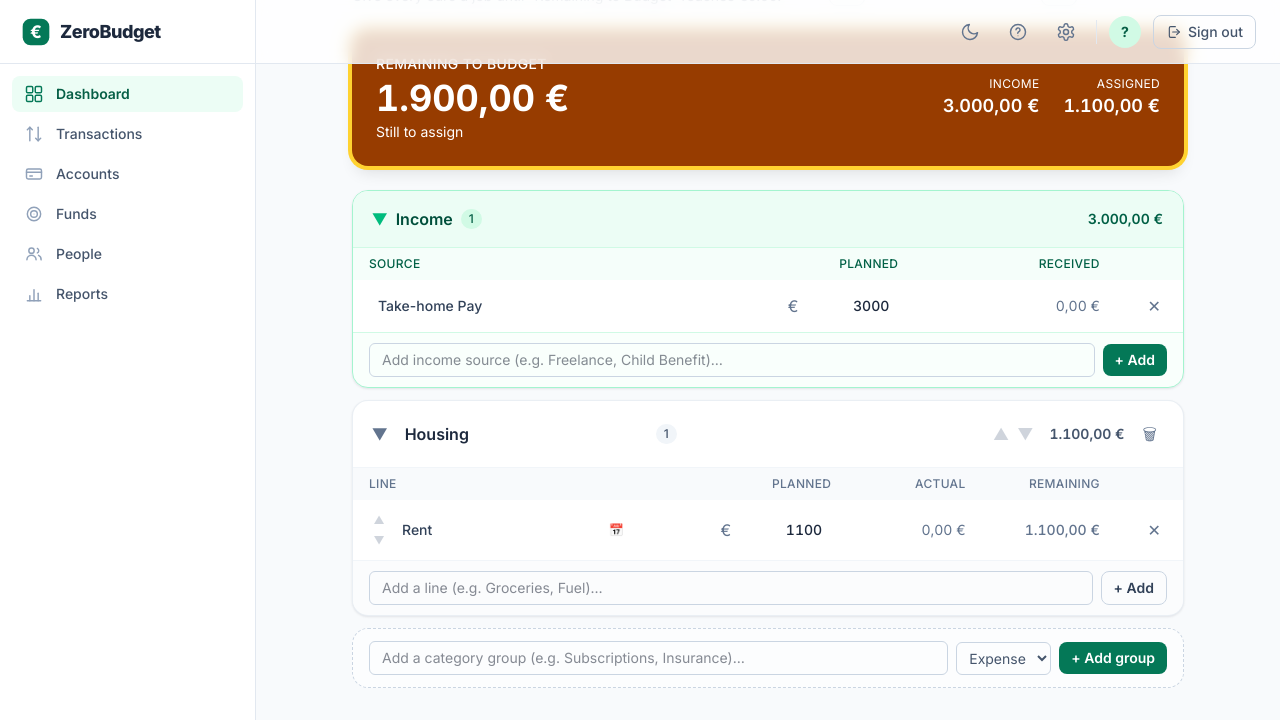
it: DashboardPage optimistic editing › adds a category group and reconciles from the server response
This screenshot has width=1280, height=720.
(page scrolled)
Type "Subscriptions" into the field named "New category group name" at (659, 658), box 369,641 -> 948,675
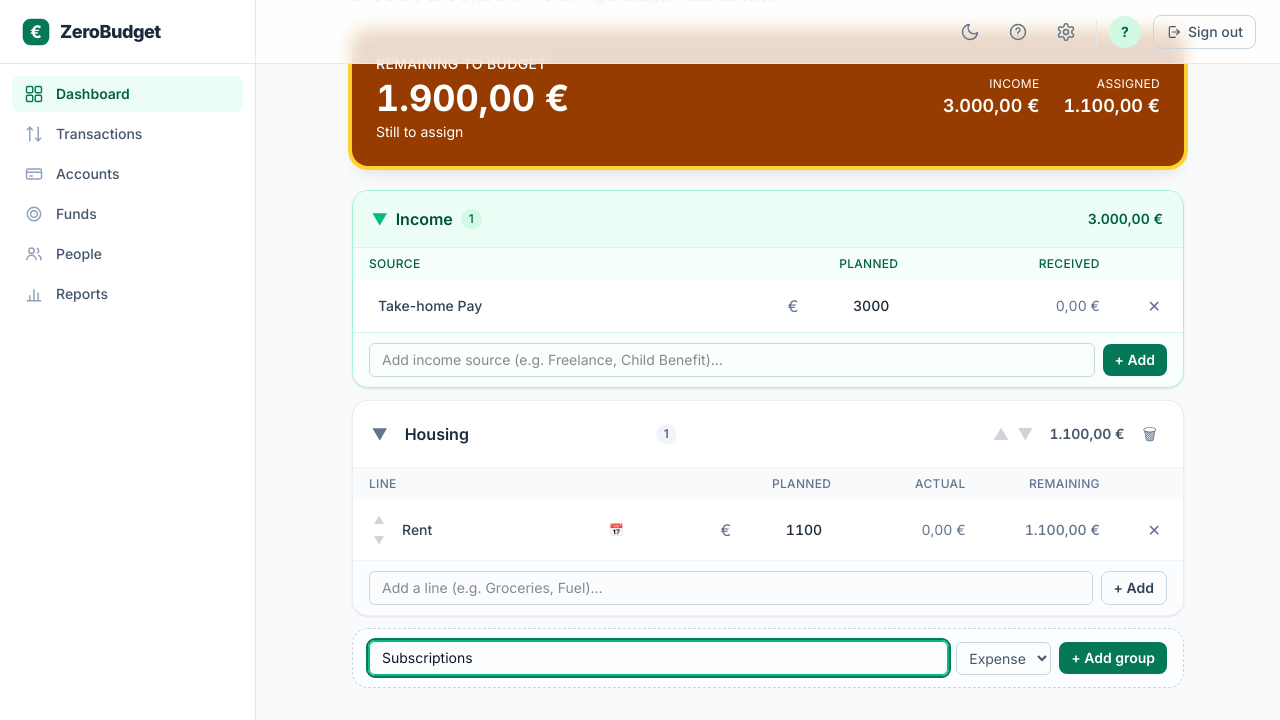
Click the button with aria-label "Add category group" at (1113, 658), box 1059,642 -> 1167,674
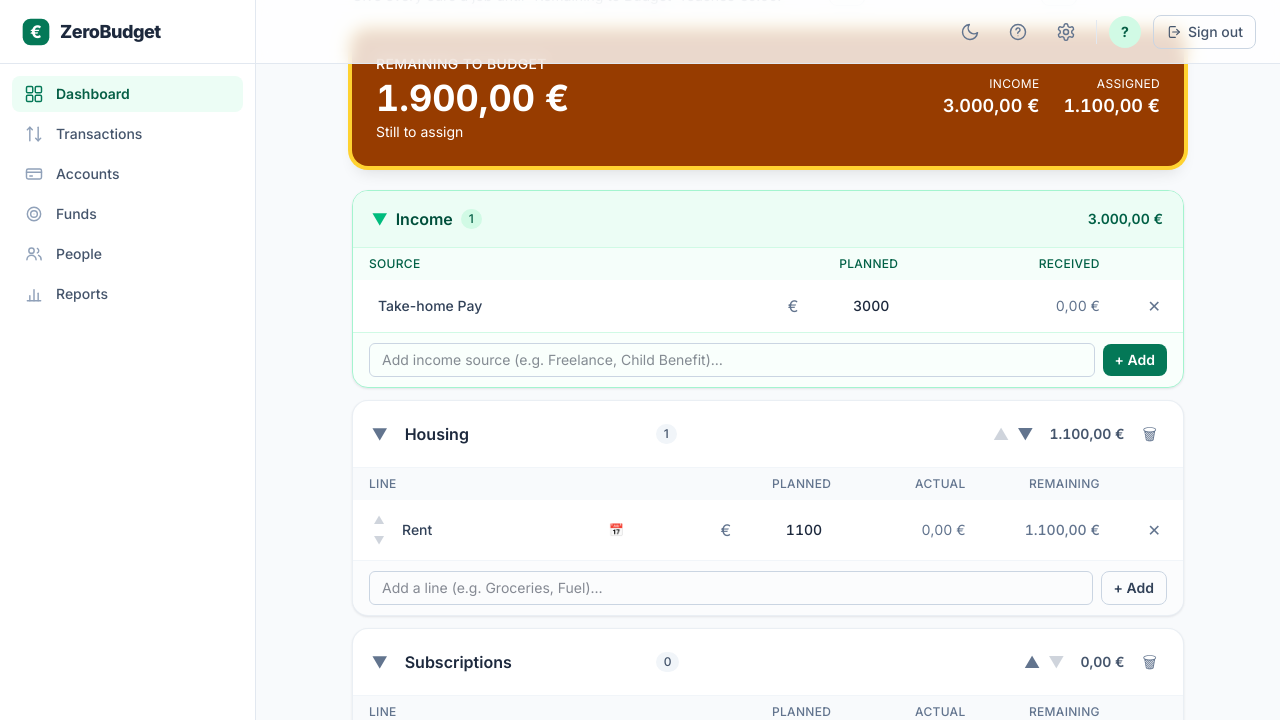
Result: the field showing "Subscriptions" is shown at 396,645 -> 648,679
